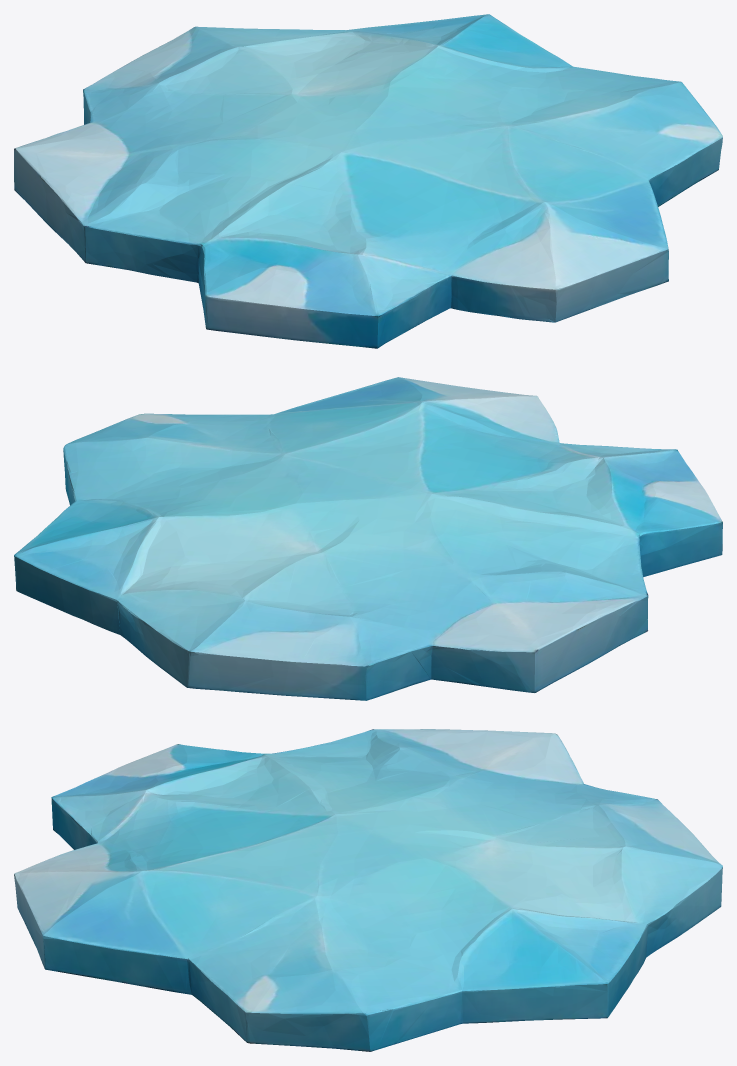
Rendered from ice_patch.glb.
3 views of the same model, one above another, from view 1: azimuth 30°, elevation 25°; view 2: azimuth 150°, elevation 25°; view 3: azimuth 270°, elevation 25° (orthographic).
Visible parts, largest first — view 1: world; view 2: world; view 3: world.
Boxes of the visible parts, x1=… form: world: x1=14, y1=14, x2=722, y2=348; world: x1=14, y1=377, x2=722, y2=700; world: x1=14, y1=729, x2=722, y2=1051.
Size of the model in its own units: 0.9618 by 0.1055 by 0.9993.
1 material, 1 textured.
